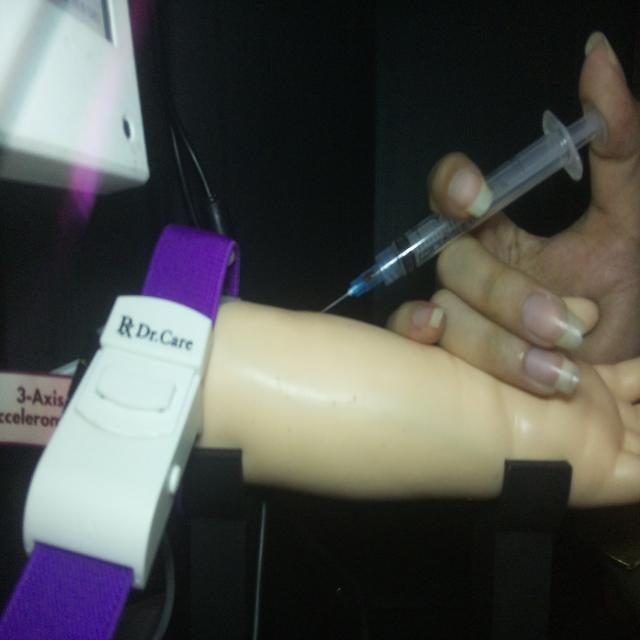23 degrees: (319, 100, 609, 316)
